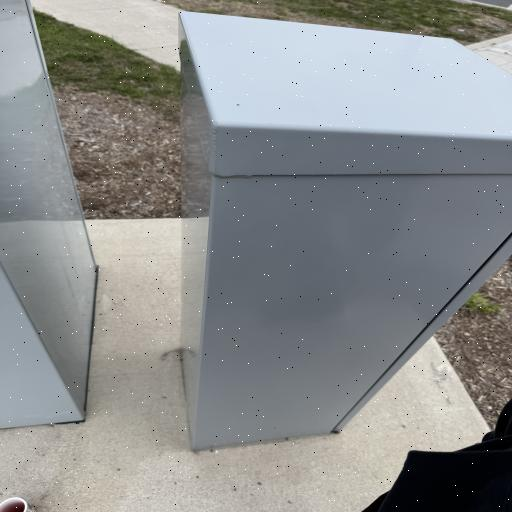Electrical Box: (174, 8, 512, 448)
